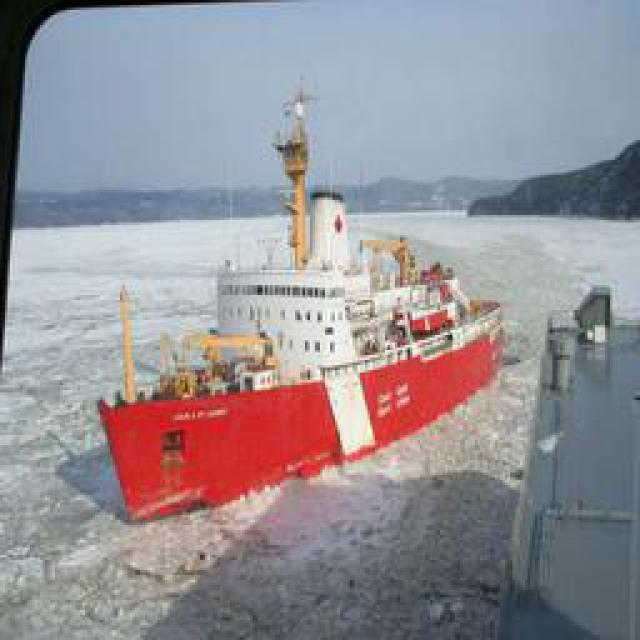Ship: (102, 76, 510, 521)
